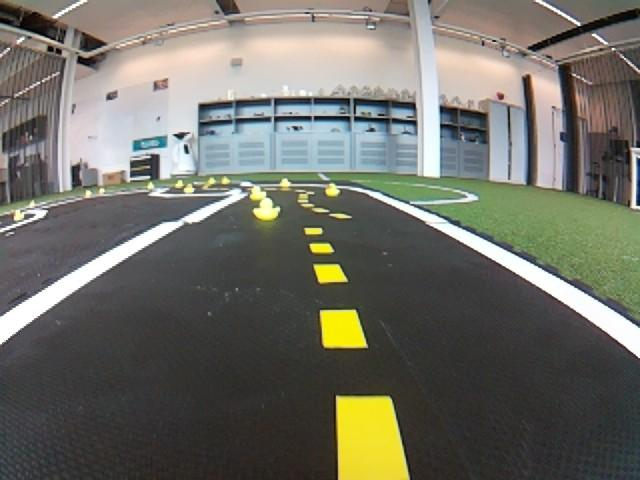Duckies: (253, 198, 280, 221), (250, 185, 266, 200), (326, 182, 339, 197), (278, 178, 292, 189), (174, 179, 183, 188), (14, 213, 24, 221), (206, 177, 216, 185), (184, 185, 195, 192), (221, 176, 229, 185), (84, 190, 92, 198), (147, 182, 155, 189), (98, 188, 105, 195), (27, 202, 35, 208)
